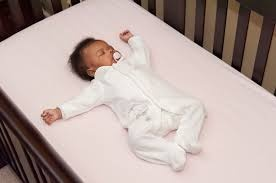baby: (41, 30, 205, 170)
crib: (0, 0, 275, 182)
